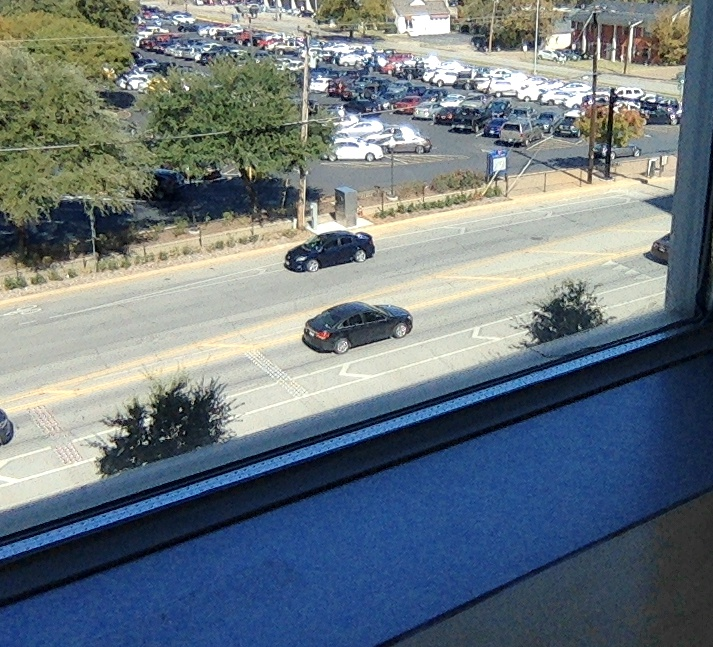car: (300, 300, 413, 356)
